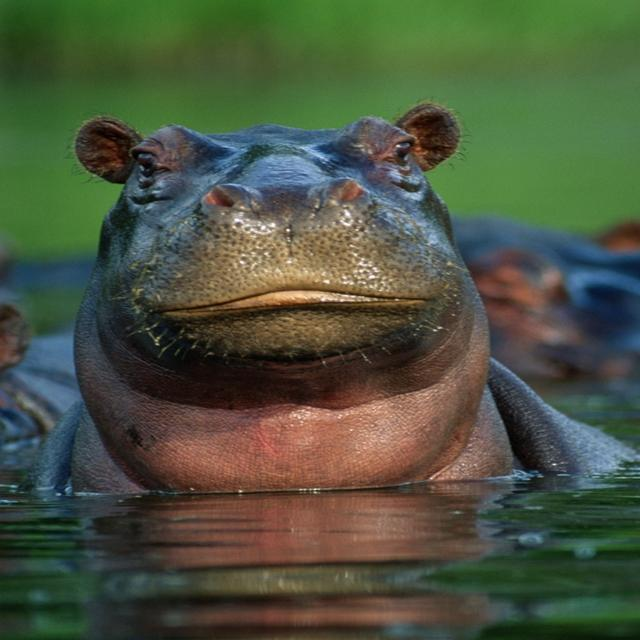Hippopotamus: (74, 103, 572, 488)
